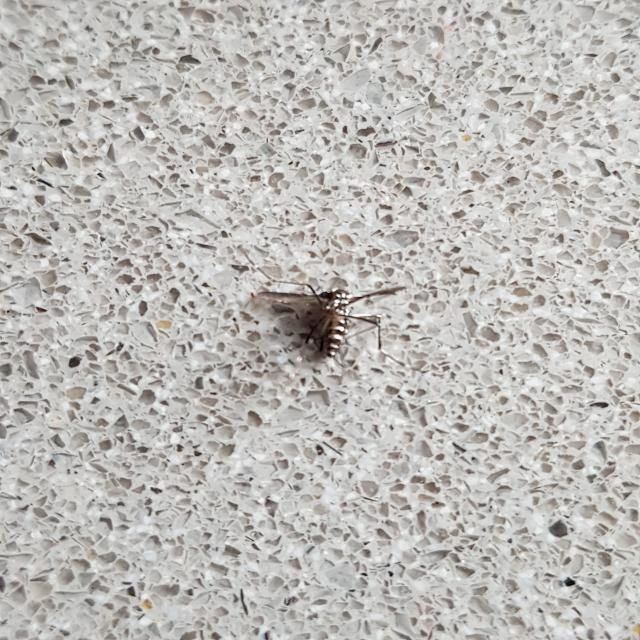albopictus: (246, 266, 417, 371)
